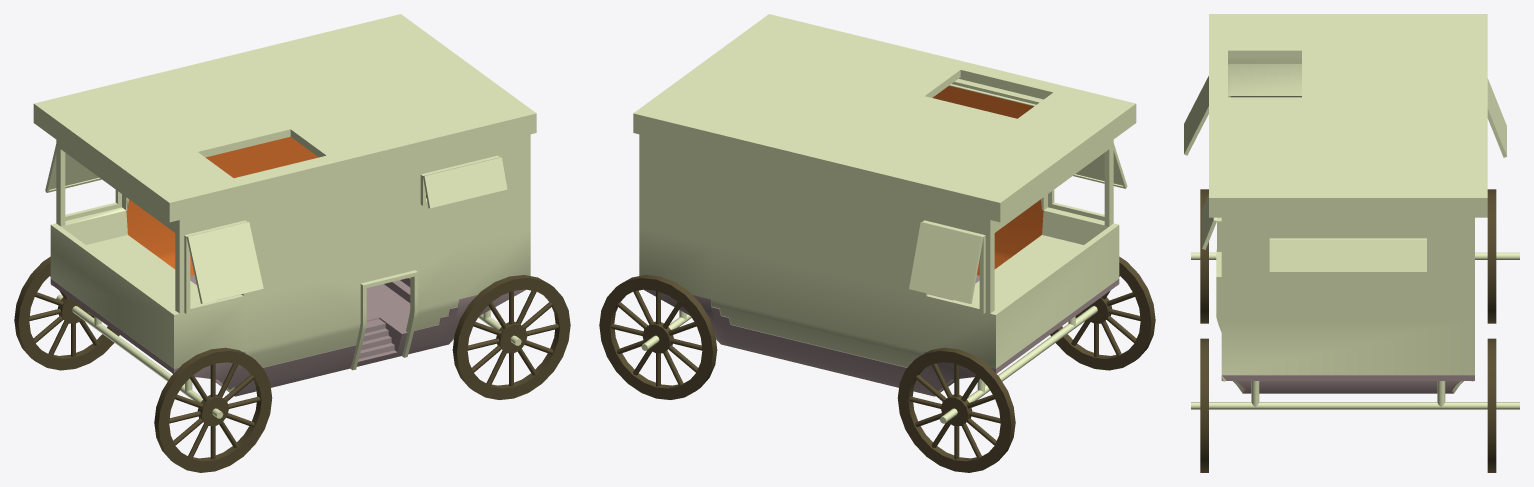
The model's file is wagon_5x3 (2).fbx.
The picture shows the model from 3 angles, left to right: view 1: azimuth 30°, elevation 25°; view 2: azimuth 150°, elevation 25°; view 3: azimuth 270°, elevation 25°; orthographic projection. The views are drawn at different scales.
Visible parts, largest first — view 1: Body, Wheel, Bottom; view 2: Body, Wheel, Bottom; view 3: Body, Wheel, Bottom.
Boxes of the visible parts, x1,y1,x2,y2 form: Body: [33, 14, 536, 418]; Wheel: [14, 256, 570, 472]; Bottom: [50, 275, 525, 396]; Body: [633, 14, 1136, 423]; Wheel: [599, 256, 1155, 472]; Bottom: [644, 275, 1119, 396]; Body: [1184, 14, 1519, 409]; Wheel: [1200, 189, 1496, 472]; Bottom: [1221, 375, 1474, 393].
Bounding box in the file's own units: 578 × 369 × 398.
